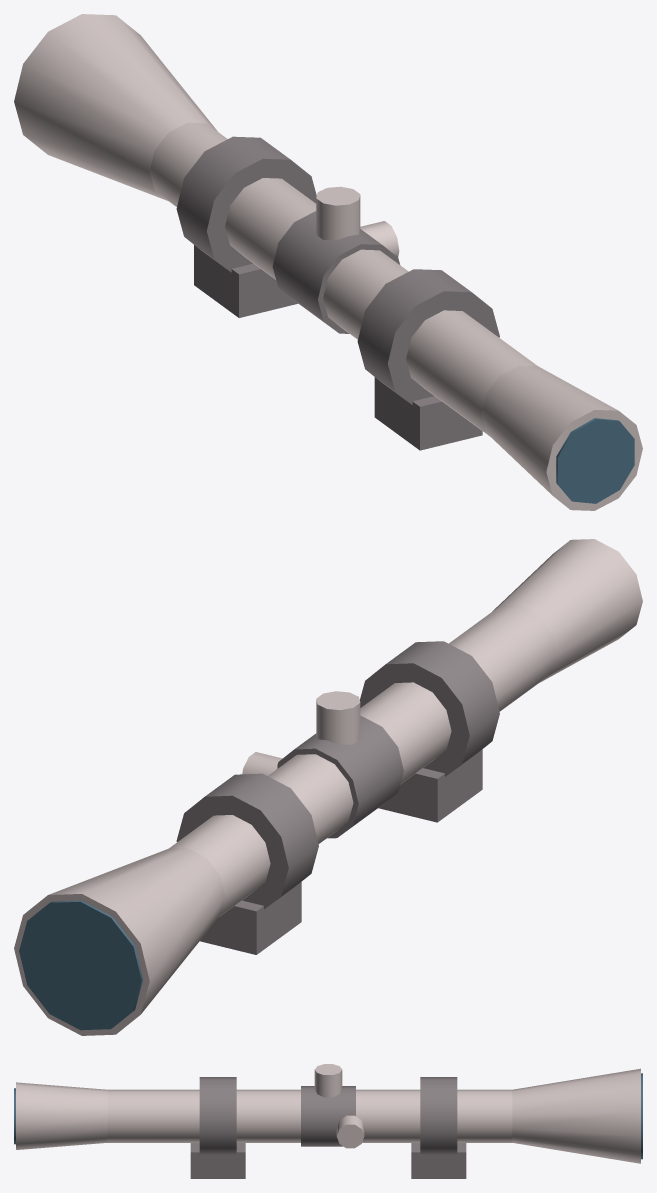
File: bolt_sniper_scope.glb
The picture shows the model from 3 angles, top to bottom: view 1: azimuth 30°, elevation 25°; view 2: azimuth 150°, elevation 25°; view 3: azimuth 270°, elevation 25°; orthographic projection. The views are drawn at different scales.
Parts seen in each view (by area): view 1: scope; view 2: scope; view 3: scope.
Part boxes in pixels (left/top/right/bottom): scope: left=14, top=14, right=642, bottom=510; scope: left=14, top=539, right=642, bottom=1035; scope: left=14, top=1064, right=642, bottom=1178.
Bounding box in the file's own units: 0.052 × 0.06 × 0.342.
